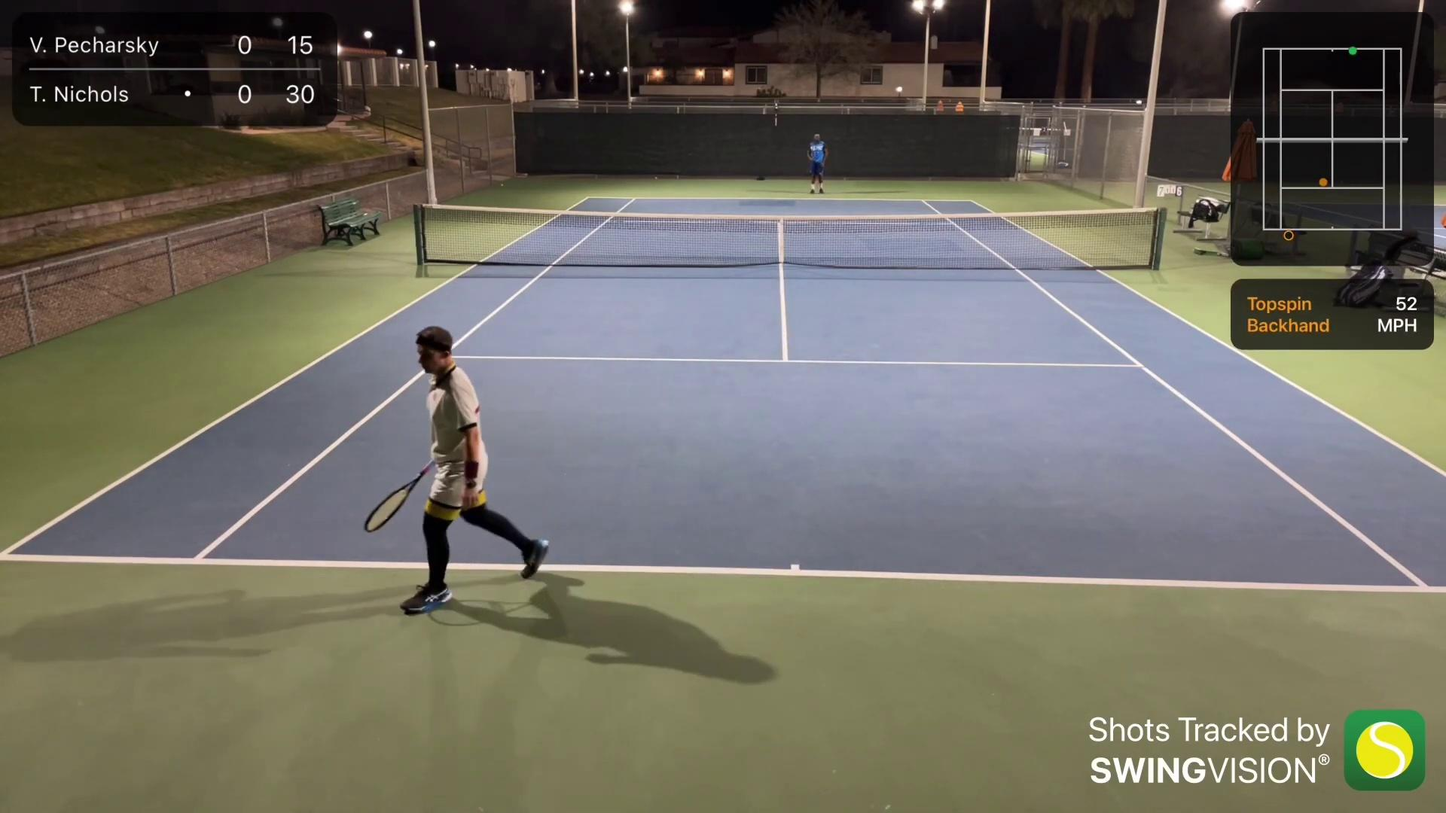ball: (654, 175, 659, 180), (500, 184, 505, 187)
